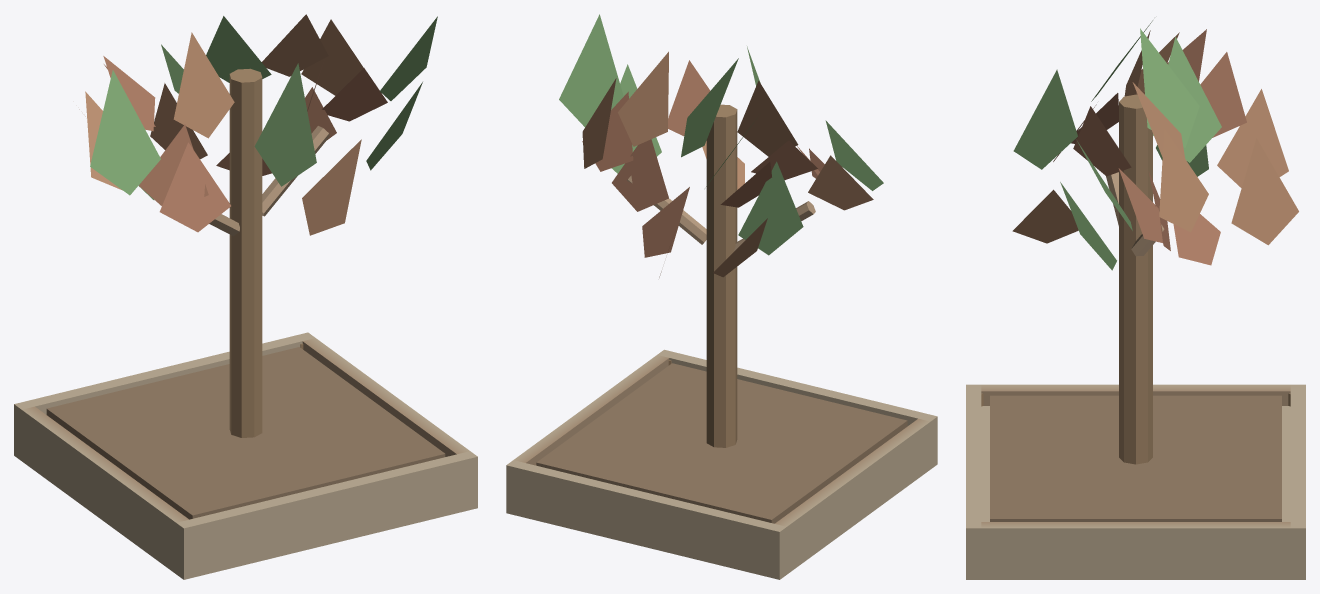
File: cacao_crecimiento_near.glb
3 views of the same model, side by side, from view 1: azimuth 30°, elevation 25°; view 2: azimuth 150°, elevation 25°; view 3: azimuth 270°, elevation 25° (orthographic). The views are drawn at different scales.
Parts seen in each view (by area): view 1: model; view 2: model; view 3: model.
Part boxes in pixels (<box>): model: <box>14,14,477,579</box>; model: <box>506,14,937,579</box>; model: <box>966,20,1305,579</box>.
Bounding box in the file's own units: 1.17 × 1.53 × 1.
